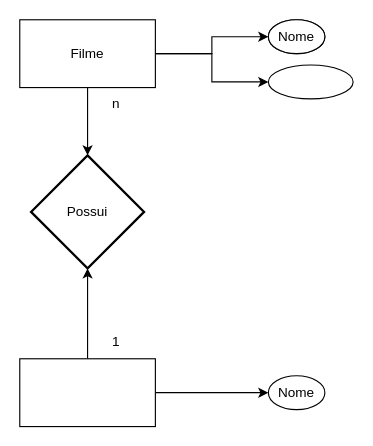
This 373x446 diagram has some shape labels left out. Each missing label, with the box of its shape:
Descrição: (267, 64, 353, 99)
Genero: (19, 358, 155, 427)
